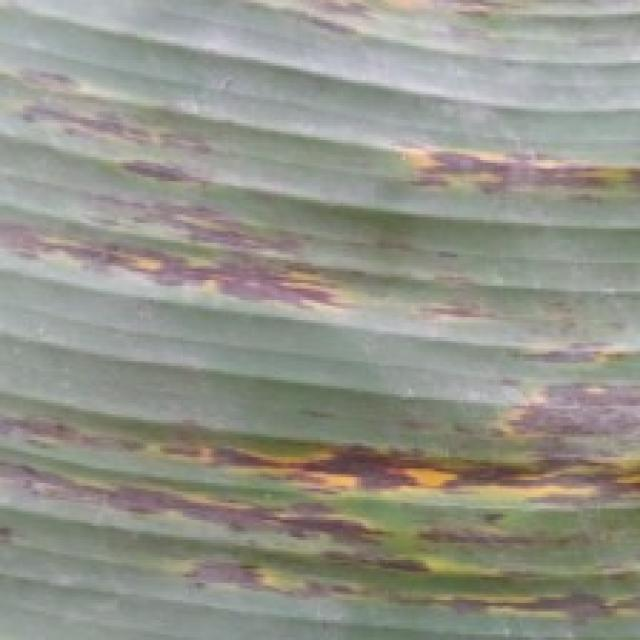Early_leaf_spot: (0, 362, 640, 631), (1, 180, 327, 338), (4, 49, 226, 178), (385, 125, 640, 211), (437, 8, 640, 88), (380, 228, 509, 330), (493, 304, 640, 368), (288, 0, 402, 60)
